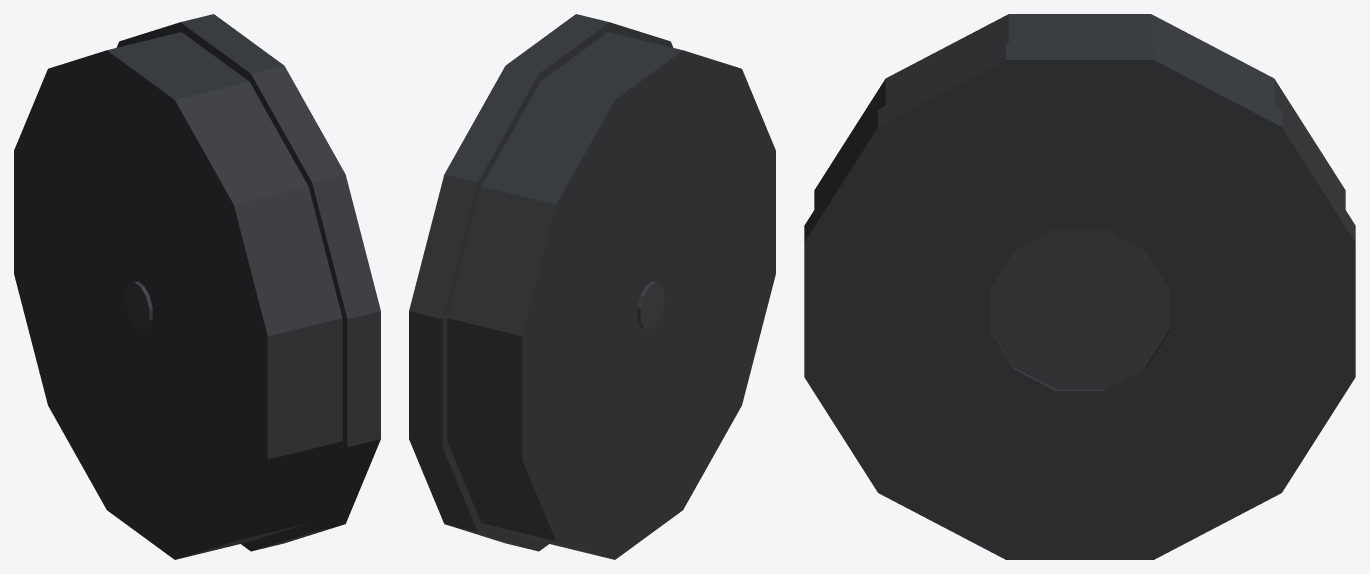
Rendered from LMG4_03_2.fbx.
3 renders of one model, left to right at view 1: azimuth 30°, elevation 25°; view 2: azimuth 150°, elevation 25°; view 3: azimuth 270°, elevation 25°, orthographic. The views are drawn at different scales.
Parts seen in each view (by area): view 1: LMG4_03_2; view 2: LMG4_03_2; view 3: LMG4_03_2.
Boxes of the visible parts, <box> form: LMG4_03_2: <box>14,14,380,559</box>; LMG4_03_2: <box>409,14,775,559</box>; LMG4_03_2: <box>804,14,1355,559</box>.
Size of the model in its own units: 0.0473 by 0.193 by 0.193.
